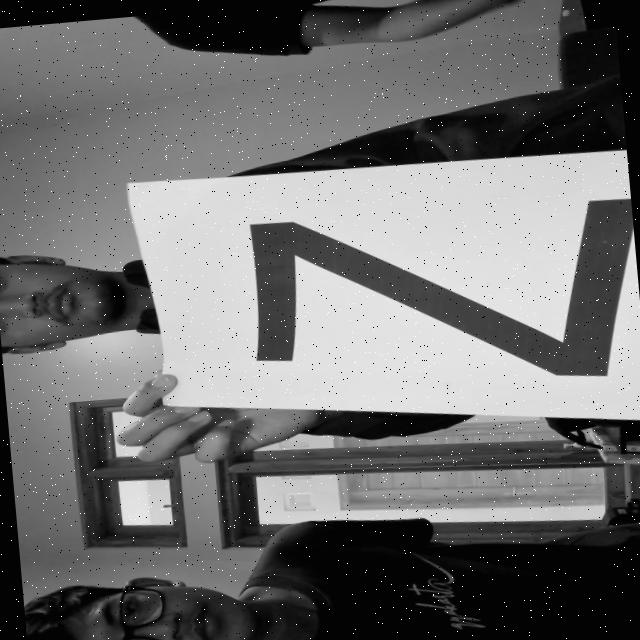z: (222, 174, 640, 411)
